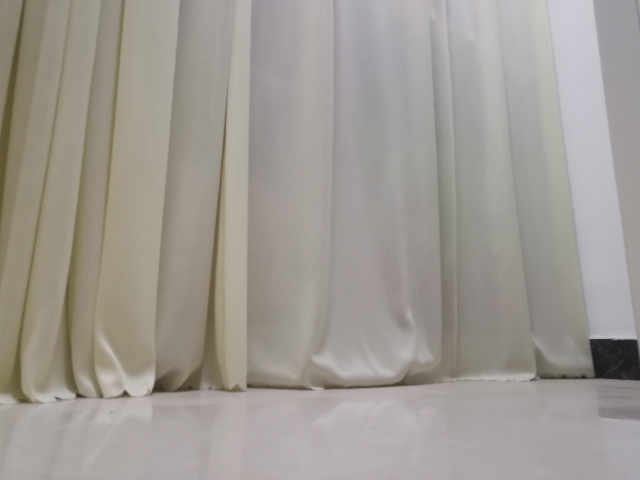curtain: (1, 1, 598, 408)
